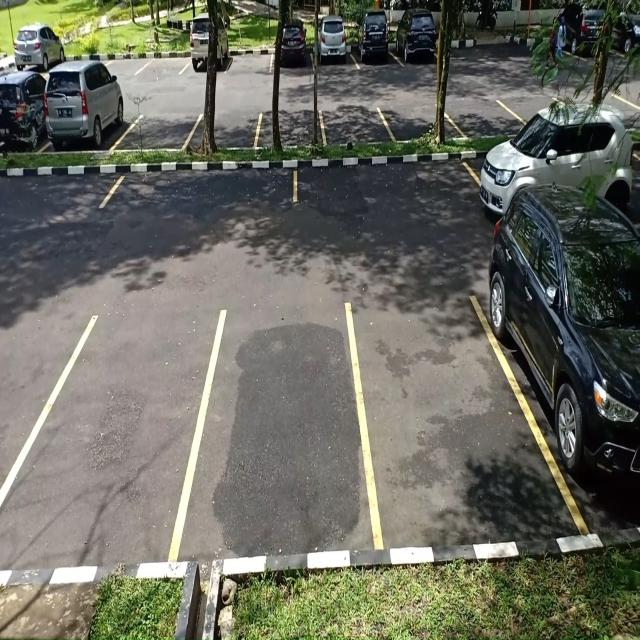empty: (4, 308, 217, 562), (348, 297, 538, 548), (195, 308, 379, 557), (103, 161, 298, 210), (294, 154, 481, 204), (123, 109, 197, 151), (320, 107, 394, 146), (193, 108, 260, 151), (450, 99, 522, 139), (384, 102, 454, 142), (255, 109, 325, 148), (140, 44, 188, 76), (226, 44, 273, 74)
occupied: (489, 261, 640, 531), (45, 76, 130, 155), (0, 75, 45, 155), (186, 17, 230, 75), (394, 16, 438, 68), (311, 21, 356, 71), (355, 14, 394, 70), (270, 27, 314, 72)
